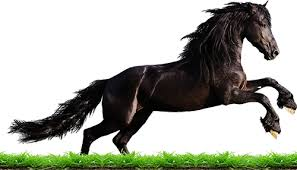horse: (11, 1, 297, 157)
